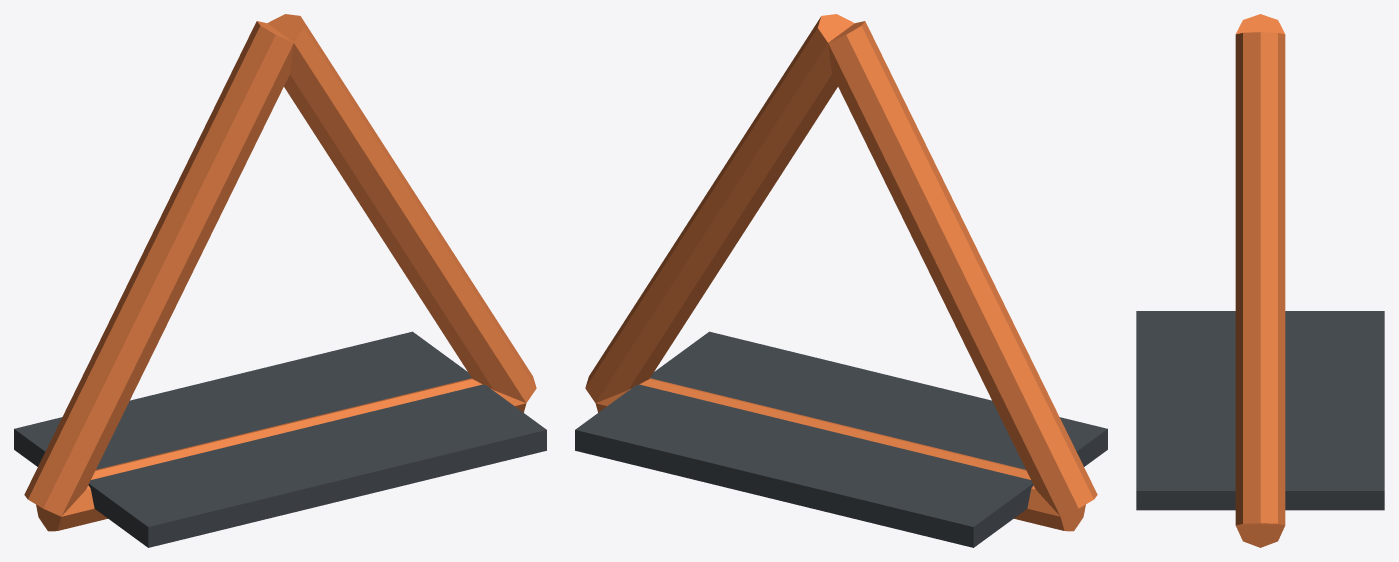
File: long-haul-trucking-and-truck-stop-warning-triangle-83fcc31a__14022.glb
The picture shows the model from 3 angles, left to right: view 1: azimuth 30°, elevation 25°; view 2: azimuth 150°, elevation 25°; view 3: azimuth 270°, elevation 25°; orthographic projection. The views are drawn at different scales.
Parts seen in each view (by area): view 1: warning-triangle; view 2: warning-triangle; view 3: warning-triangle.
Part boxes in pixels (<box>): warning-triangle: <box>14,14,546,547</box>; warning-triangle: <box>575,14,1107,547</box>; warning-triangle: <box>1136,14,1384,547</box>.
Size of the model in its own units: 0.7605 by 0.6527 by 0.35.
